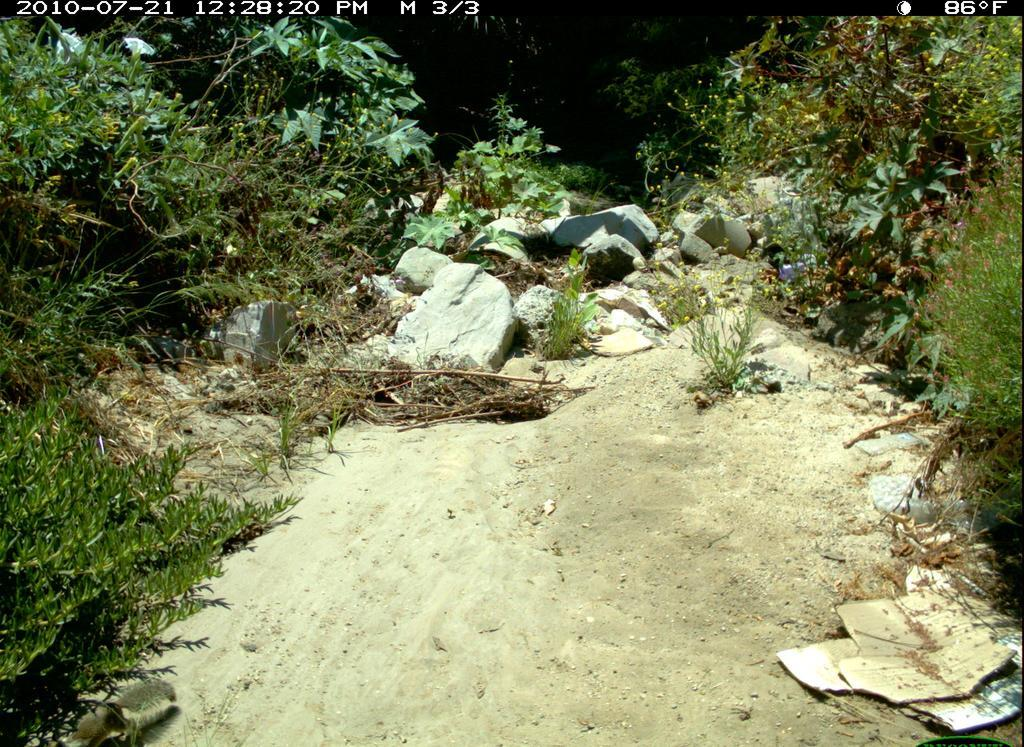squirrel: (61, 679, 184, 747)
